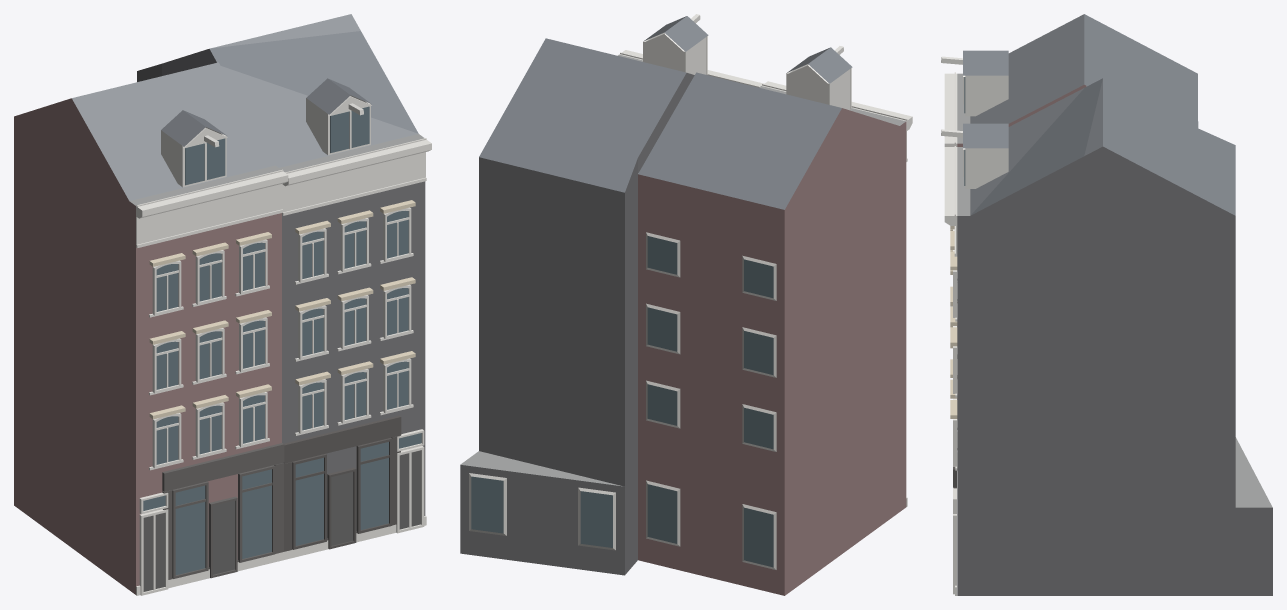
Rendered from chunk-face-saenredam-62-66-r1.glb.
3 views of the same model, side by side, from view 1: azimuth 30°, elevation 25°; view 2: azimuth 150°, elevation 25°; view 3: azimuth 270°, elevation 25° (orthographic).
Parts seen in each view (by area): view 1: face-saenredam-62-66-r1; view 2: face-saenredam-62-66-r1; view 3: face-saenredam-62-66-r1.
Boxes of the visible parts, bbox=[...] form: face-saenredam-62-66-r1: bbox=[14, 14, 431, 595]; face-saenredam-62-66-r1: bbox=[460, 14, 912, 595]; face-saenredam-62-66-r1: bbox=[941, 14, 1272, 595].
Bounding box in the file's own units: 10.25 × 15.44 × 10.33.
